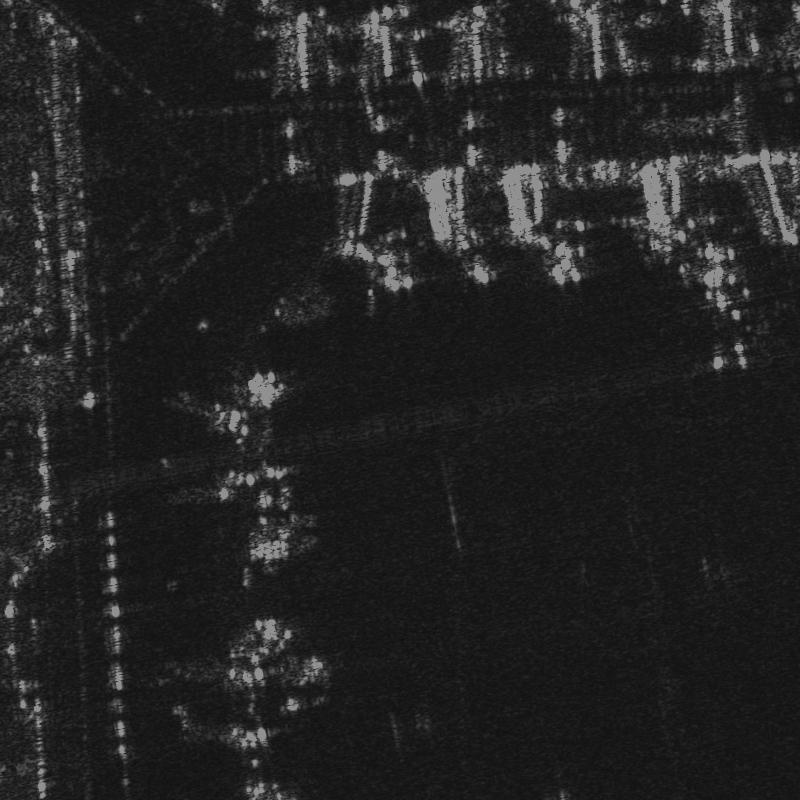A320/321: (224, 607, 331, 716), (679, 266, 773, 376)
